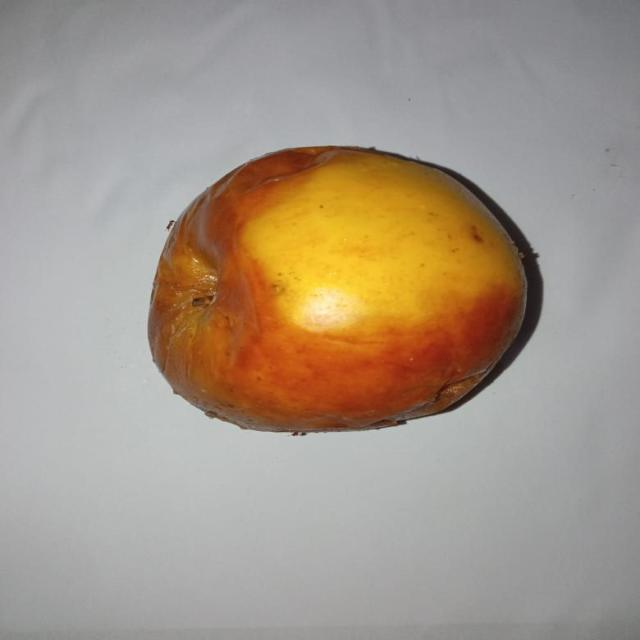rotten_apple: (148, 142, 532, 435)
